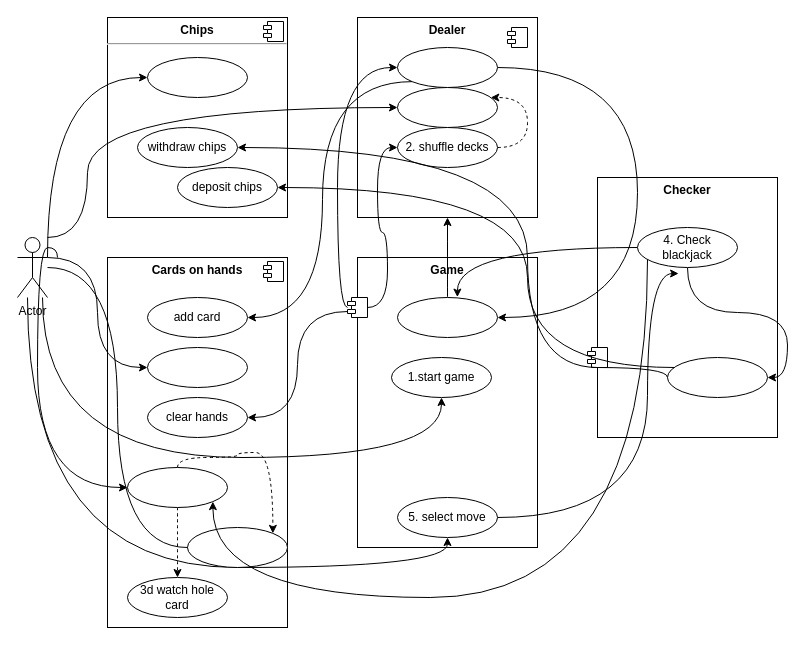
Some shapes in this 805 by 645 pixel diagram are drawn without their labels. Each missing label, with the centre of its shape:
"2a choose # decks" belongs at [447,107].
"3. deal cards" belongs at [447,67].
"3a. watch hands" belongs at [177,487].
"3c. watch up cards" belongs at [237,547].
"4a. pay" belongs at [717,377].
"5a. show balance" belongs at [197,77].
"set gamestate" belongs at [447,317].
"view cards on hands" belongs at [197,367].
